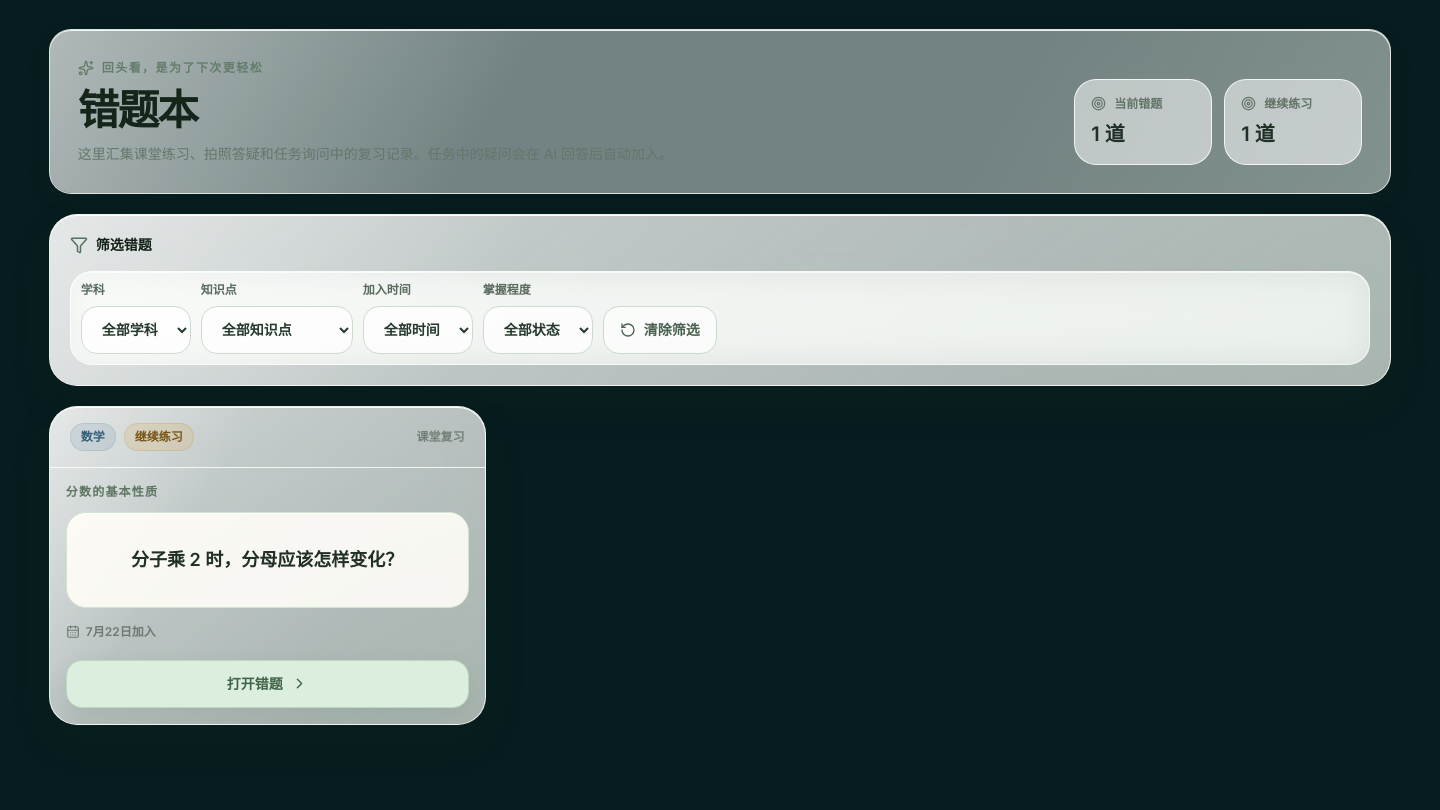
Scenario: MistakesPage › sets a simulated review reminder and reports when it will appear
This screenshot has width=1440, height=810.
Click the button with aria-label "查看错题：分子乘 2 时，分母应该怎样变化？": x=267, y=684 [66,660,469,708]
(page scrolled)
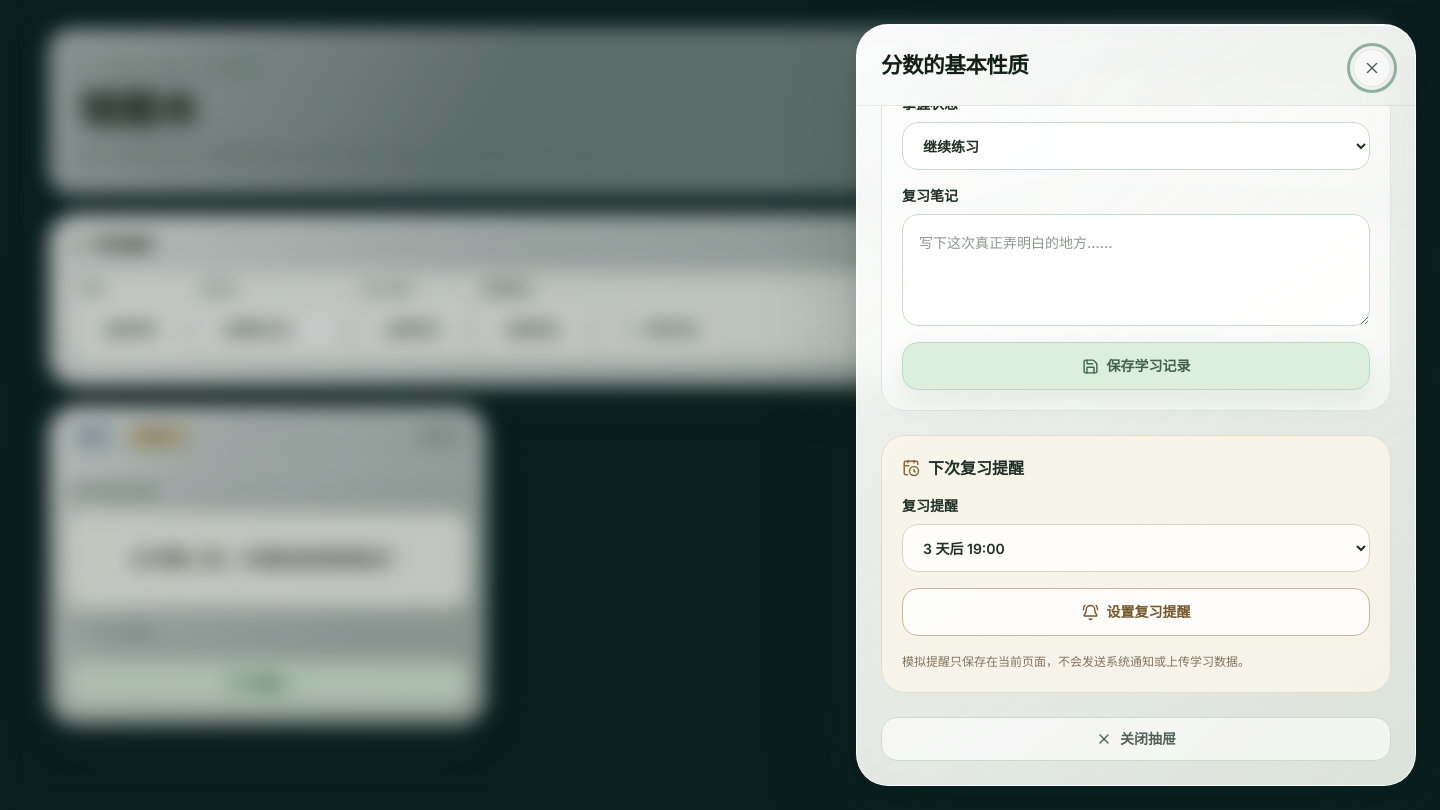
Select "3 天后 19:00" in the dropdown labelled "复习提醒": x=1136, y=548 [902,524,1370,572]
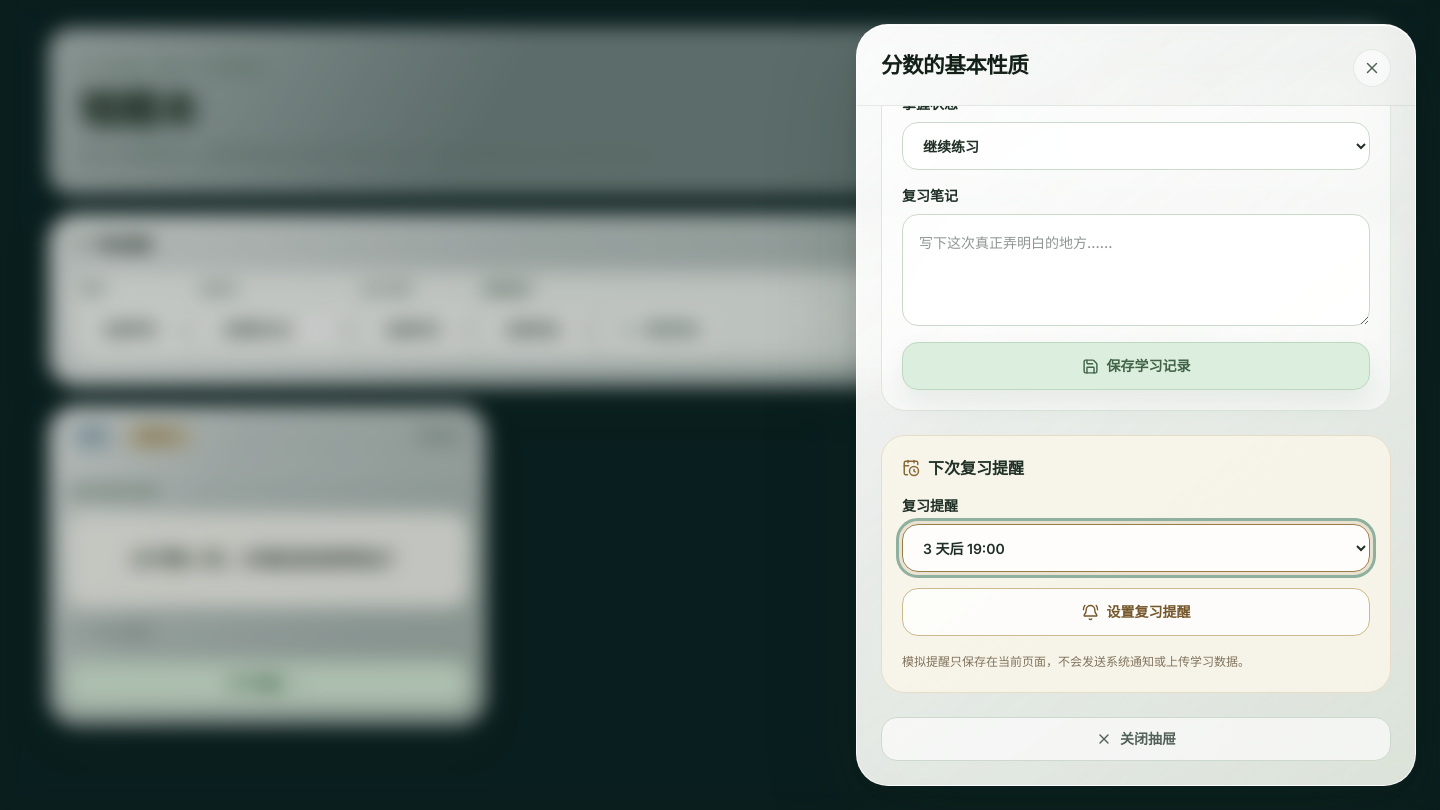
Click the button "设置复习提醒": x=1136, y=612 [902,588,1370,636]
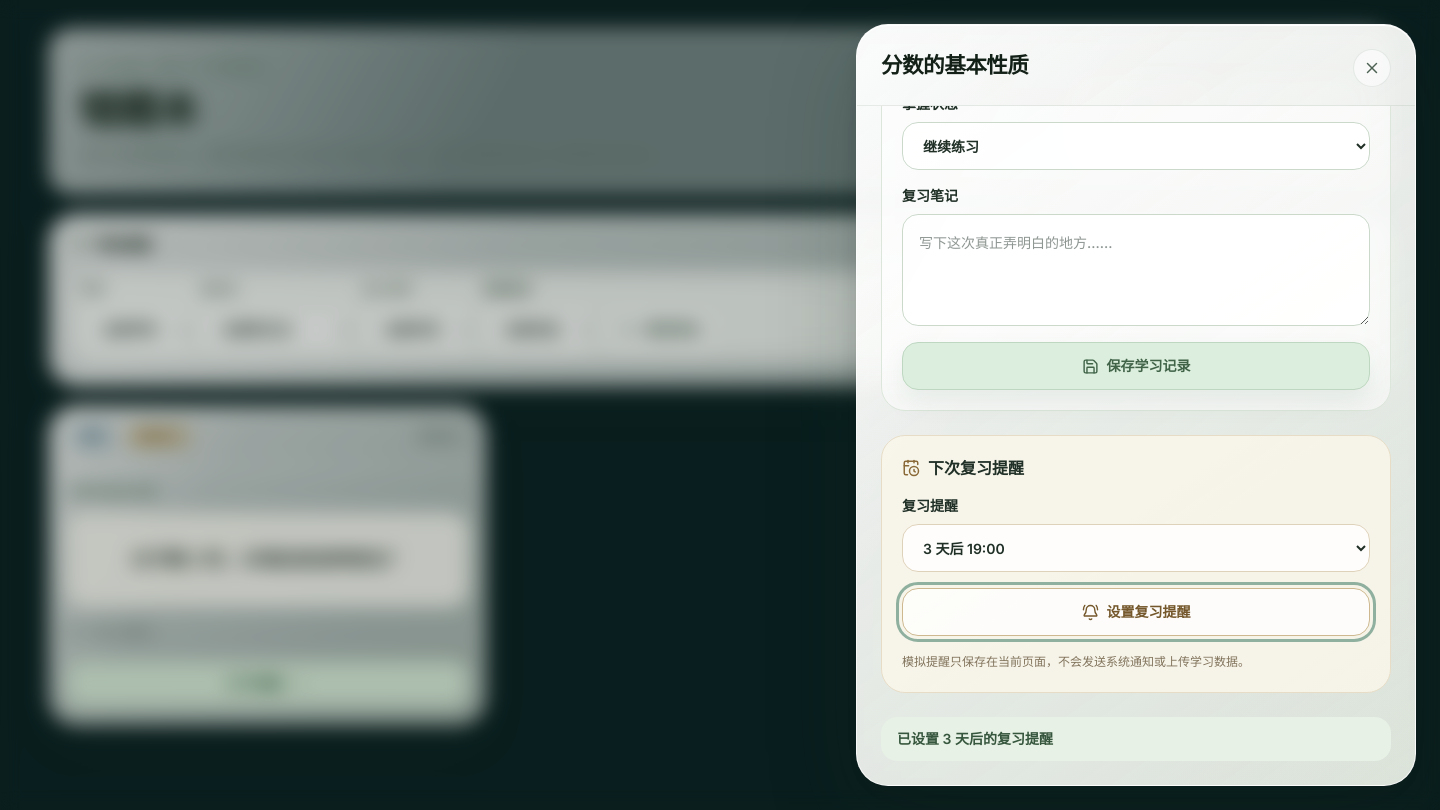
Result: the text "模拟提醒只保存在当前页面，不会发送系统通知或上传学习数据。" is shown at [902,654,1250,669]
Result: the message reads "已设置 3 天后的复习提醒" at [897,730,1053,747]
